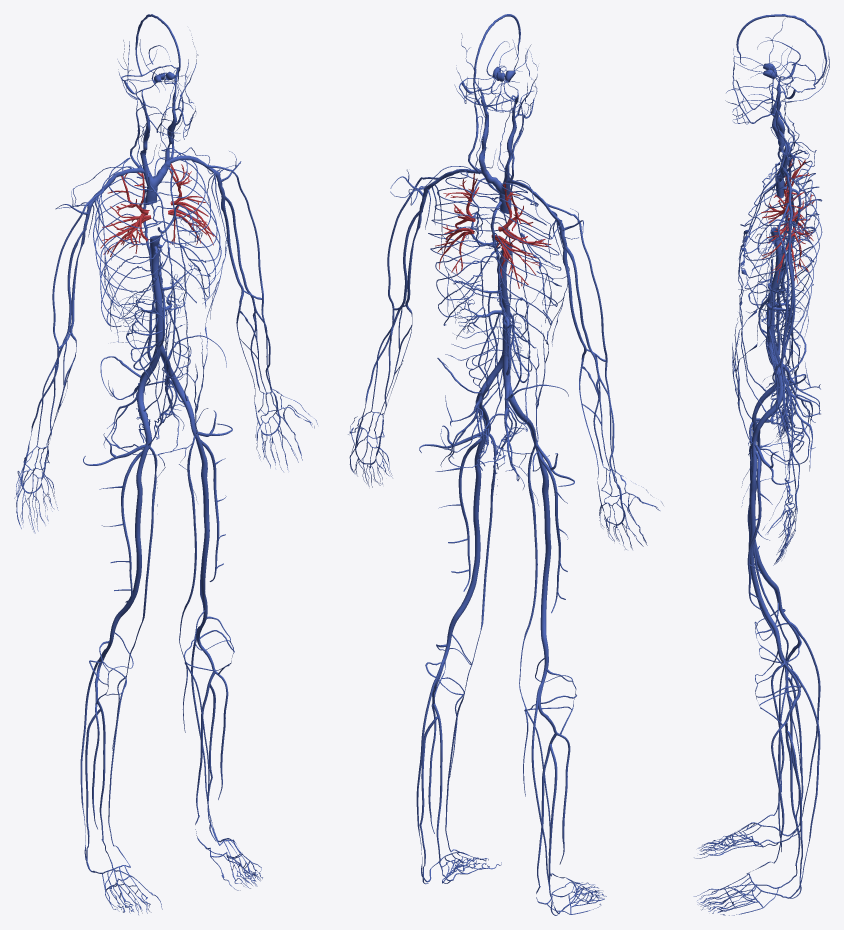
Rendered from female-venous.glb.
3 renders of one model, left to right at view 1: azimuth 30°, elevation 25°; view 2: azimuth 150°, elevation 25°; view 3: azimuth 270°, elevation 25°, orthographic. The views are drawn at different scales.
Parts seen in each view (by area): view 1: Right_superior_intercostal_vein, Left_superior_intercostal_vein, Femoral_vein_R, Femoral_vein_L, Great_saphenous_vein_L, Great_saphenous_vein_R, Cephalic_vein_R, Cephalic_vein_L; view 2: Right_superior_intercostal_vein, Left_superior_intercostal_vein, Femoral_vein_R, Femoral_vein_L, Great_saphenous_vein_R, Great_saphenous_vein_L, Cephalic_vein_R, Cephalic_vein_L; view 3: Left_superior_intercostal_vein, Femoral_vein_L, Right_superior_intercostal_vein, Great_saphenous_vein_R, Cephalic_vein_L, Great_saphenous_vein_L, Small_saphenous_vein_L, Deep_femoral_vein_L, Small_saphenous_vein_R, Basilic_vein_L, Femoral_vein_R, Superior_sagittal_sinus (+14 smaller).
Part boxes in pixels (<box>): Right_superior_intercostal_vein: <box>93,157,168,326</box>; Left_superior_intercostal_vein: <box>136,148,221,308</box>; Femoral_vein_R: <box>119,427,151,615</box>; Femoral_vein_L: <box>189,416,209,596</box>; Great_saphenous_vein_L: <box>179,435,219,845</box>; Great_saphenous_vein_R: <box>108,446,157,866</box>; Cephalic_vein_R: <box>23,188,104,465</box>; Cephalic_vein_L: <box>204,163,277,403</box>; Right_superior_intercostal_vein: <box>490,182,561,348</box>; Left_superior_intercostal_vein: <box>428,170,505,325</box>; Femoral_vein_R: <box>530,430,551,634</box>; Femoral_vein_L: <box>456,418,490,615</box>; Great_saphenous_vein_R: <box>519,445,561,877</box>; Great_saphenous_vein_L: <box>445,433,496,855</box>; Cephalic_vein_R: <box>547,203,621,496</box>; Cephalic_vein_L: <box>357,177,438,432</box>; Left_superior_intercostal_vein: <box>740,168,822,340</box>; Femoral_vein_L: <box>748,426,775,626</box>; Right_superior_intercostal_vein: <box>740,149,822,297</box>; Great_saphenous_vein_R: <box>746,422,800,829</box>; Cephalic_vein_L: <box>775,203,799,504</box>; Great_saphenous_vein_L: <box>747,444,800,873</box>; Small_saphenous_vein_L: <box>777,668,820,898</box>; Deep_femoral_vein_L: <box>747,451,761,609</box>; Small_saphenous_vein_R: <box>776,621,820,836</box>; Basilic_vein_L: <box>780,251,796,488</box>; Femoral_vein_R: <box>748,405,775,587</box>; Superior_sagittal_sinus: <box>736,14,827,84</box>.
Size of the model in its own units: 0.5771 by 1.56 by 0.223.
